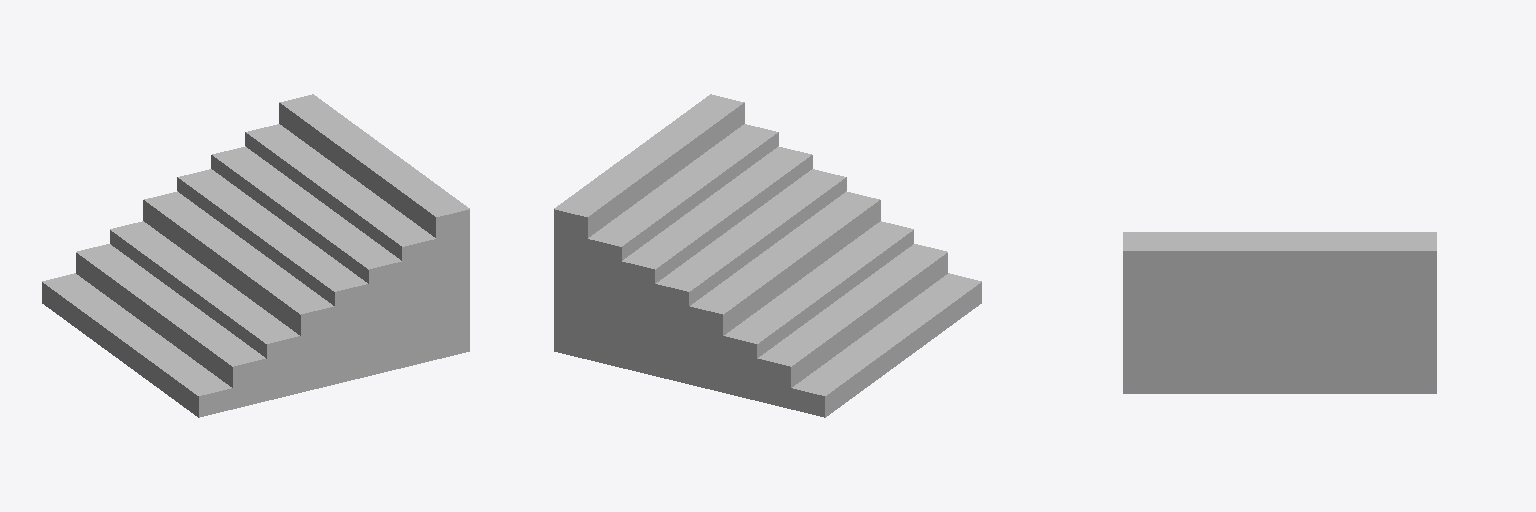
File: stairs.obj
3 renders of one model, left to right at view 1: azimuth 30°, elevation 25°; view 2: azimuth 150°, elevation 25°; view 3: azimuth 270°, elevation 25°, orthographic.
Visible parts, largest first — view 1: object 1; view 2: object 1; view 3: object 1.
Part boxes in pixels (x1,y1,x2,y2): object 1: (42, 94, 469, 417); object 1: (554, 94, 981, 417); object 1: (1123, 232, 1436, 393).
Bounding box in the file's own units: 4 × 2 × 4.